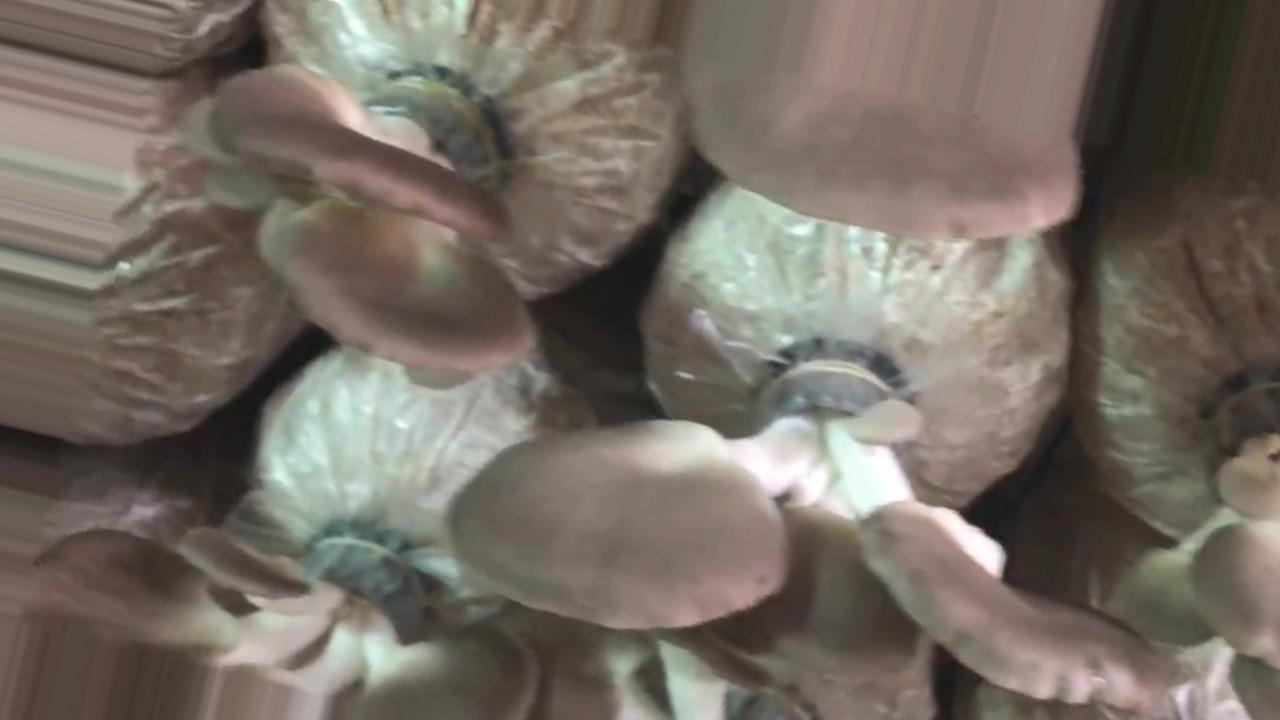nam: (446, 335, 1182, 713), (203, 57, 543, 389), (1113, 396, 1280, 658)
